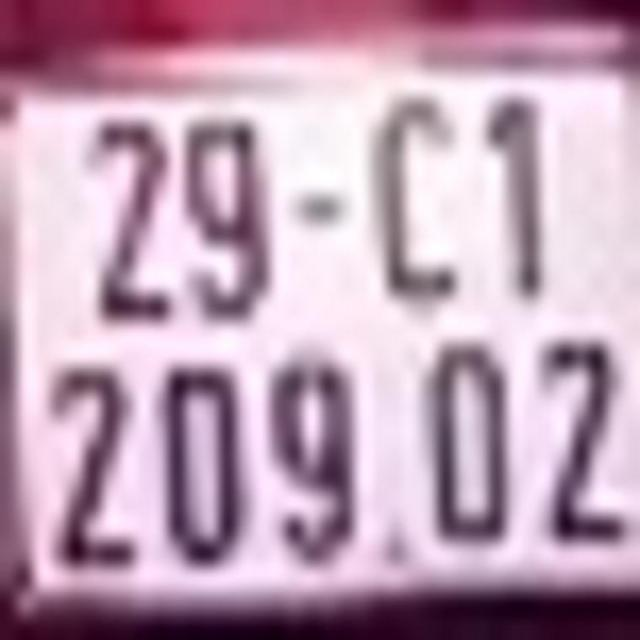0: (160, 356, 243, 559), (427, 324, 505, 532)
1: (488, 85, 548, 296)
2: (45, 357, 144, 578), (86, 110, 176, 324), (546, 332, 626, 538)
9: (272, 348, 355, 558), (186, 111, 270, 314)
C: (377, 87, 466, 292)
